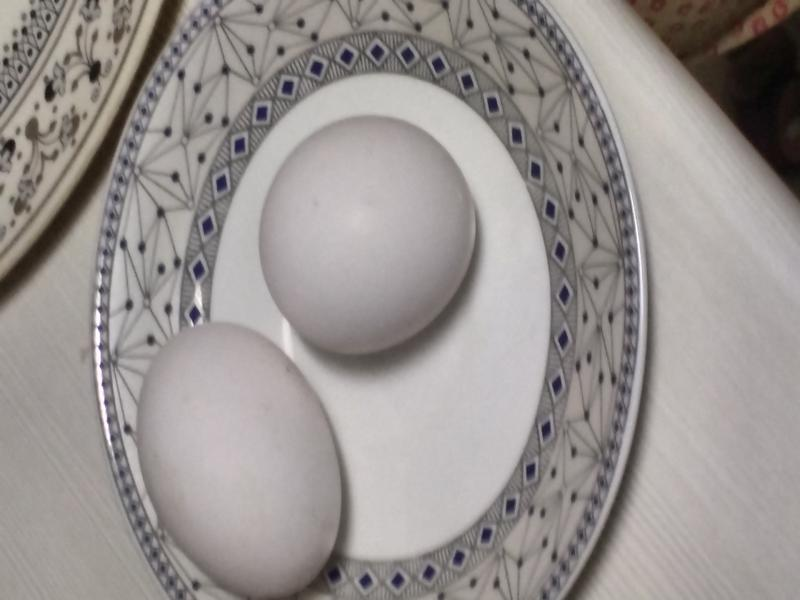egg: (140, 326, 346, 591)
